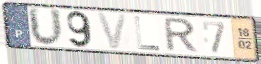7: (202, 20, 227, 54)
9: (66, 10, 94, 49)
L: (133, 15, 162, 52)
R: (163, 17, 200, 54)
U: (26, 6, 66, 48)
V: (95, 11, 129, 50)
